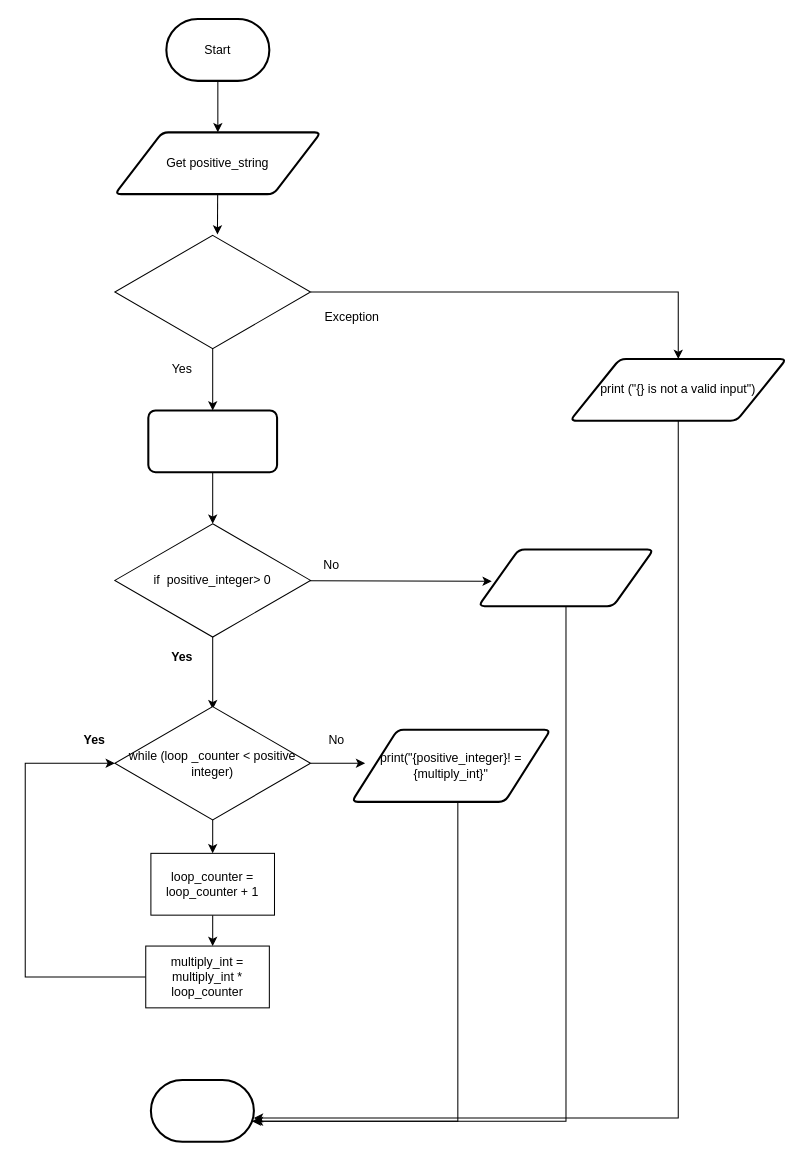
The diagram is 805 pixels wide and 1160 high, and some of its shapes have lost their labels. The shapes that lost their labels are listed below. From the top down, each one's centre as x and y in pixels, then its label:
(212,291): try
(212,441): convert string to int
(565,577): print ("That is not a positive integer")
(201,1110): Stop
